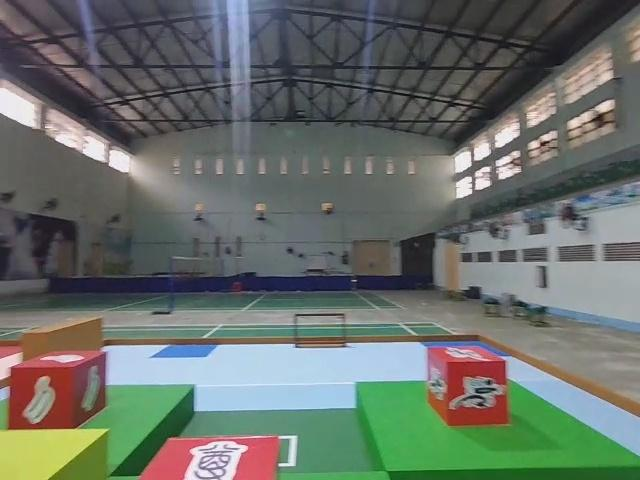R1: (427, 344, 508, 427)
R2 Fake: (136, 435, 278, 480)
R2 Real: (9, 350, 107, 434)
